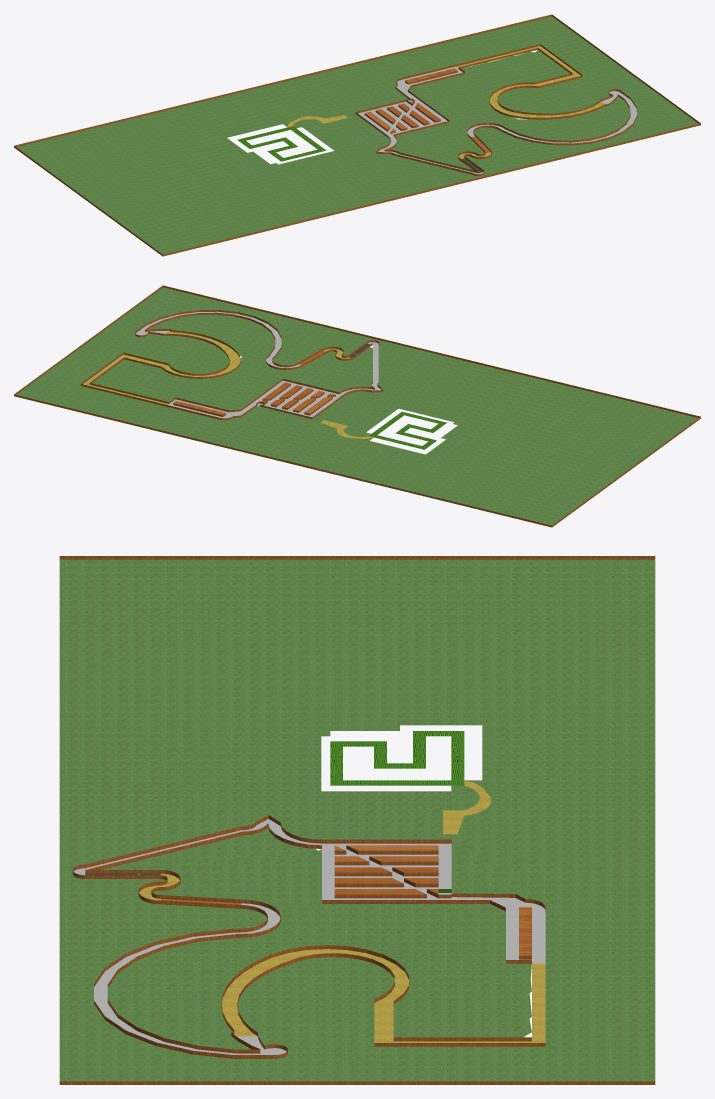
The picture shows the model from 3 angles, top to bottom: view 1: azimuth 30°, elevation 25°; view 2: azimuth 150°, elevation 25°; view 3: azimuth 270°, elevation 25°; orthographic projection. The views are drawn at different scales.
Parts seen in each view (by area): view 1: grass.025, wall.013, metal.004, sand.006, grid.002; view 2: grass.025, wall.013, metal.004, sand.006, grid.002; view 3: grass.025, wall.013, metal.004, sand.006, grid.002.
Boxes of the visible parts, x1,y1,x2,y2 form: grass.025: [16, 16, 698, 254]; wall.013: [14, 14, 700, 256]; metal.004: [358, 67, 636, 174]; sand.006: [287, 46, 605, 158]; grid.002: [237, 100, 409, 161]; grass.025: [16, 287, 698, 525]; wall.013: [14, 285, 700, 527]; metal.004: [135, 311, 381, 418]; sand.006: [83, 331, 373, 438]; grid.002: [262, 403, 446, 449]; grass.025: [59, 559, 655, 1081]; wall.013: [59, 556, 655, 1084]; metal.004: [73, 819, 545, 1054]; sand.006: [139, 780, 545, 1042]; grid.002: [330, 731, 464, 892].
Size of the model in its own units: 383145 by 1294 by 183667.
Materials: 7 (7 with a texture image).
